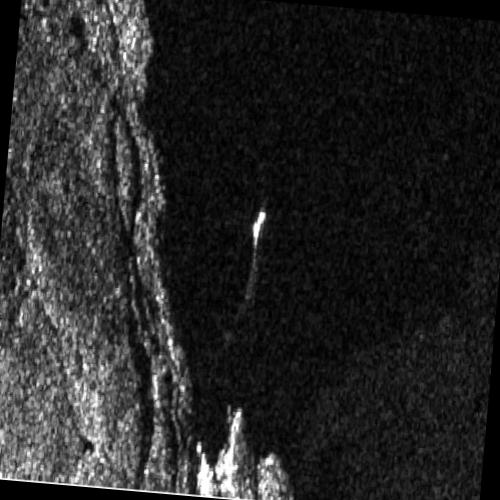ship: (251, 209, 266, 249)
